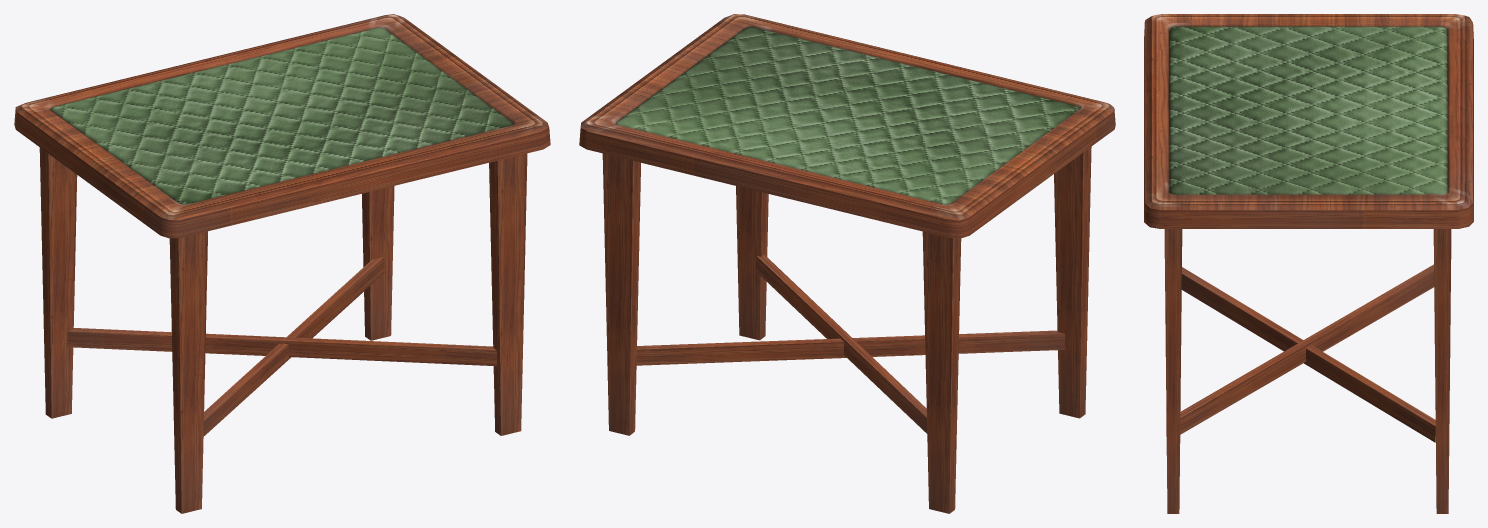
The model's file is table.FBX.
3 views of the same model, side by side, from view 1: azimuth 30°, elevation 25°; view 2: azimuth 150°, elevation 25°; view 3: azimuth 270°, elevation 25° (orthographic). The views are drawn at different scales.
Visible parts, largest first — view 1: table, table-cover; view 2: table, table-cover; view 3: table-cover, table.
Boxes of the visible parts, box(x1,y1,x2,y2) form: table: box(14, 14, 550, 513); table-cover: box(50, 27, 513, 204); table: box(579, 14, 1115, 513); table-cover: box(615, 27, 1079, 204); table-cover: box(1169, 26, 1447, 194); table: box(1144, 14, 1473, 513).
Bounding box in the file's own units: 103 × 78 × 73.15.
